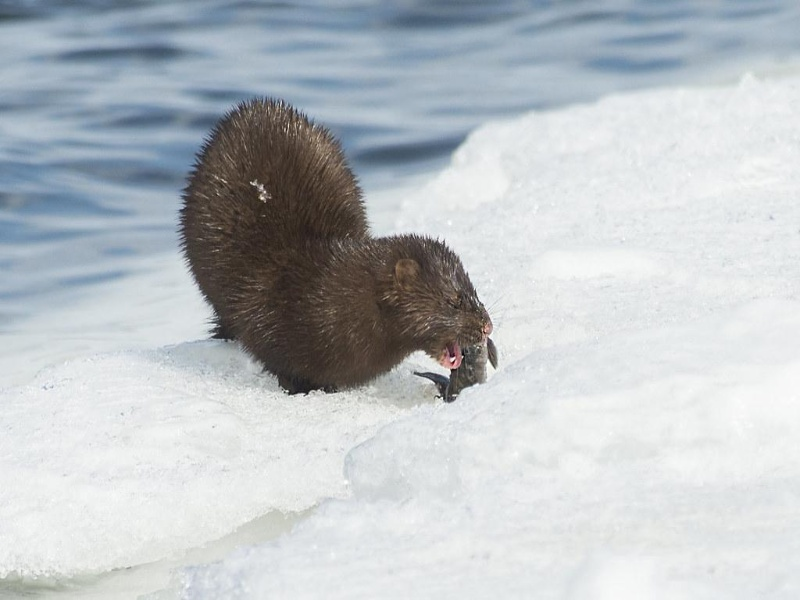minkish: (173, 95, 493, 398)
